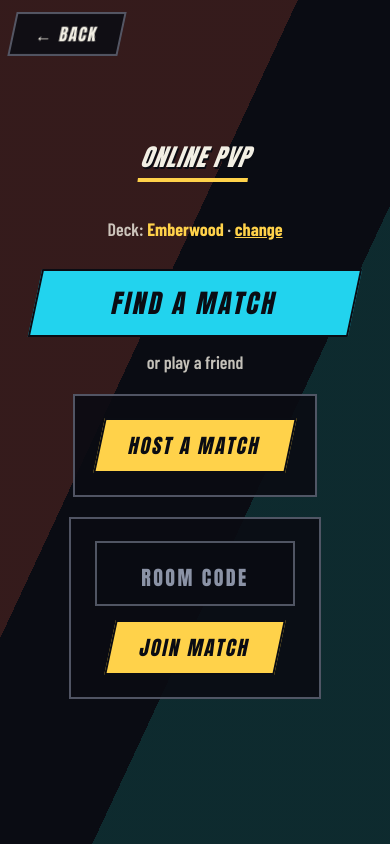
the lobby, against a real second player › cancelling the search leaves the queue
Earlier steps of the test are not shown.
Click the button "Find a match": (195, 303) left=28, top=269, right=362, bottom=337
Wait 100 ms
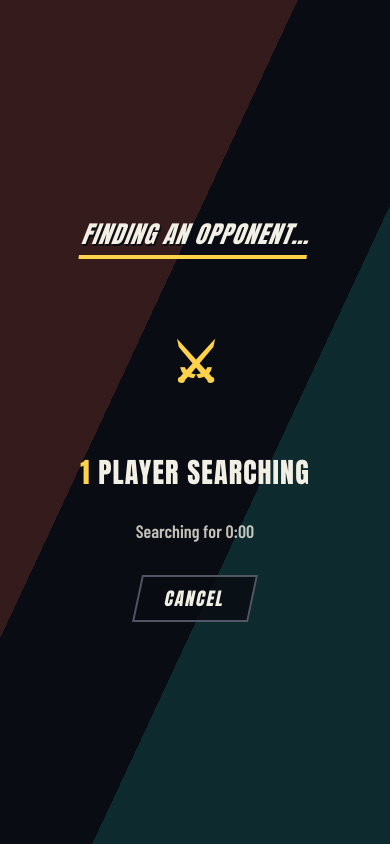
Click the button "Cancel": (195, 599) left=132, top=575, right=258, bottom=622
Wait 200 ms
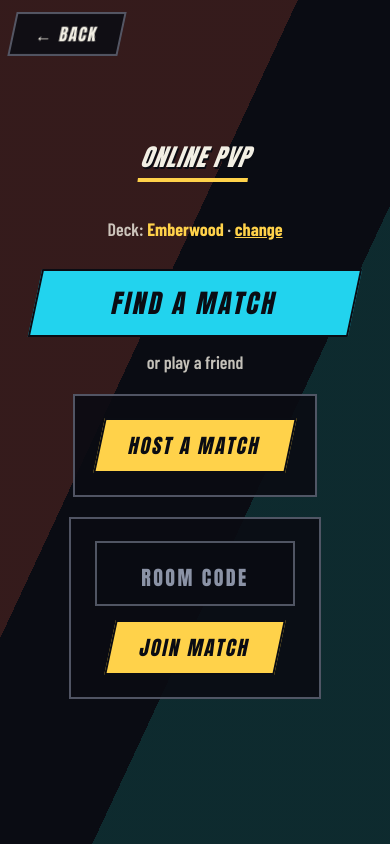
expect the button "Find a match" is shown: met, box left=28, top=269, right=362, bottom=337
